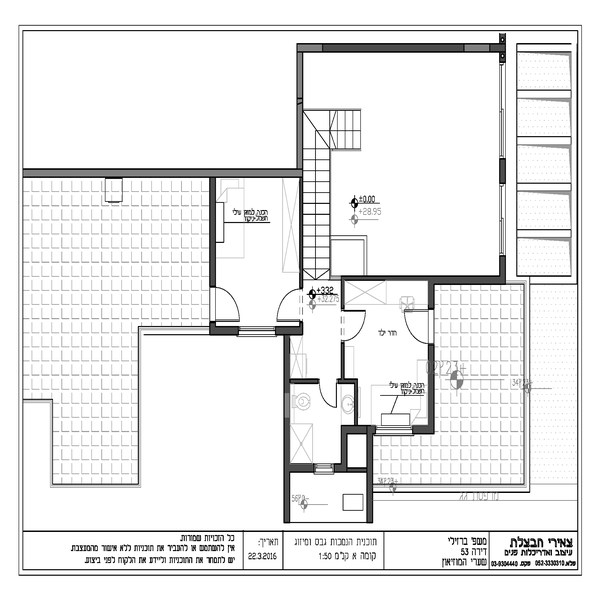door: (204, 279, 243, 325), (401, 300, 437, 348), (339, 306, 372, 349), (267, 288, 305, 324), (312, 378, 340, 413)
room: (296, 38, 509, 287), (338, 269, 438, 435), (206, 168, 306, 331), (283, 379, 379, 531), (266, 284, 346, 378)
wall: (24, 164, 299, 184), (278, 325, 297, 523), (302, 38, 504, 56), (337, 274, 511, 289), (296, 40, 311, 171), (205, 176, 220, 289), (362, 432, 379, 524), (425, 341, 441, 433), (296, 188, 305, 285), (348, 374, 363, 424), (201, 329, 243, 346), (287, 369, 315, 390), (287, 457, 316, 476), (342, 423, 352, 473), (496, 154, 509, 185), (425, 278, 437, 309)
window: (496, 65, 510, 153), (496, 187, 514, 255), (377, 421, 415, 440), (236, 323, 277, 339), (316, 459, 337, 475)
